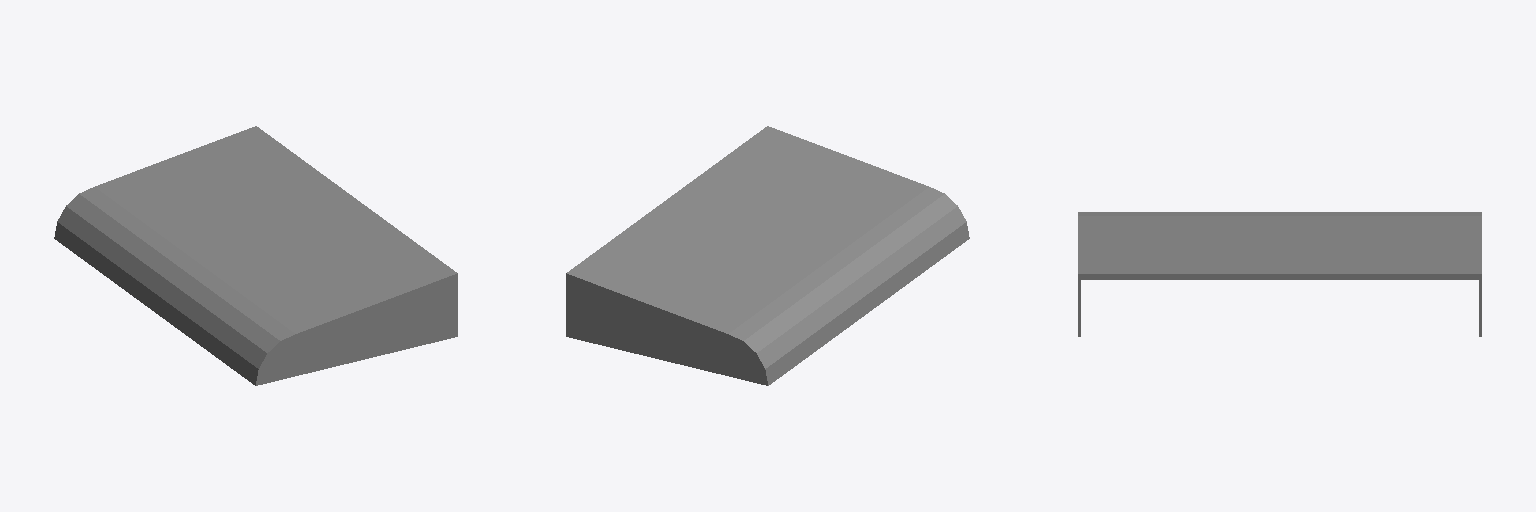
The model's file is Terrace_ceiling.obj.
The picture shows the model from 3 angles: view 1: azimuth 30°, elevation 25°; view 2: azimuth 150°, elevation 25°; view 3: azimuth 270°, elevation 25°; orthographic projection.
Visible parts, largest first — view 1: ???_??; view 2: ???_??; view 3: ???_??.
Boxes of the visible parts, <box> form: ???_??: <box>54,126,457,385</box>; ???_??: <box>566,126,969,385</box>; ???_??: <box>1078,212,1481,336</box>.
Bounding box in the file's own units: 1.5 × 0.4498 × 2.59.